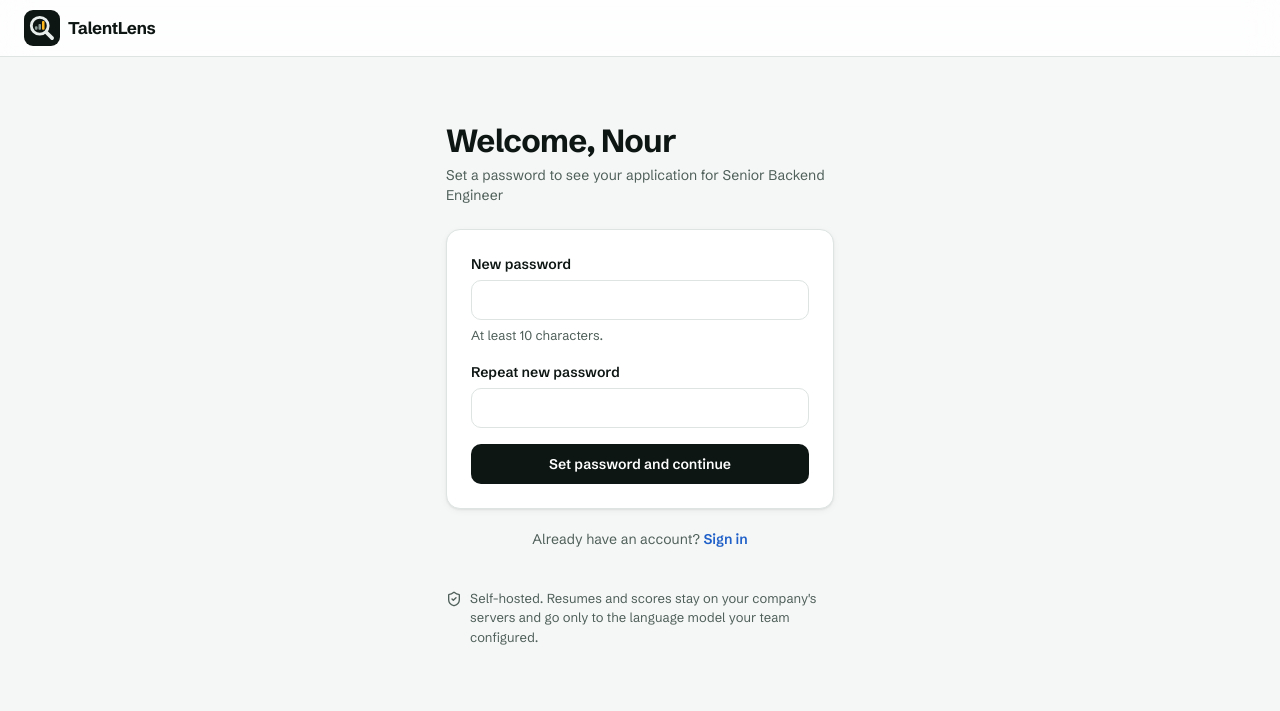
Scenario: InvitePage › shows the reason when accepting is refused
In the password field labelled "New password": [640, 300] box [471,280,809,320], type "NourPass2026"
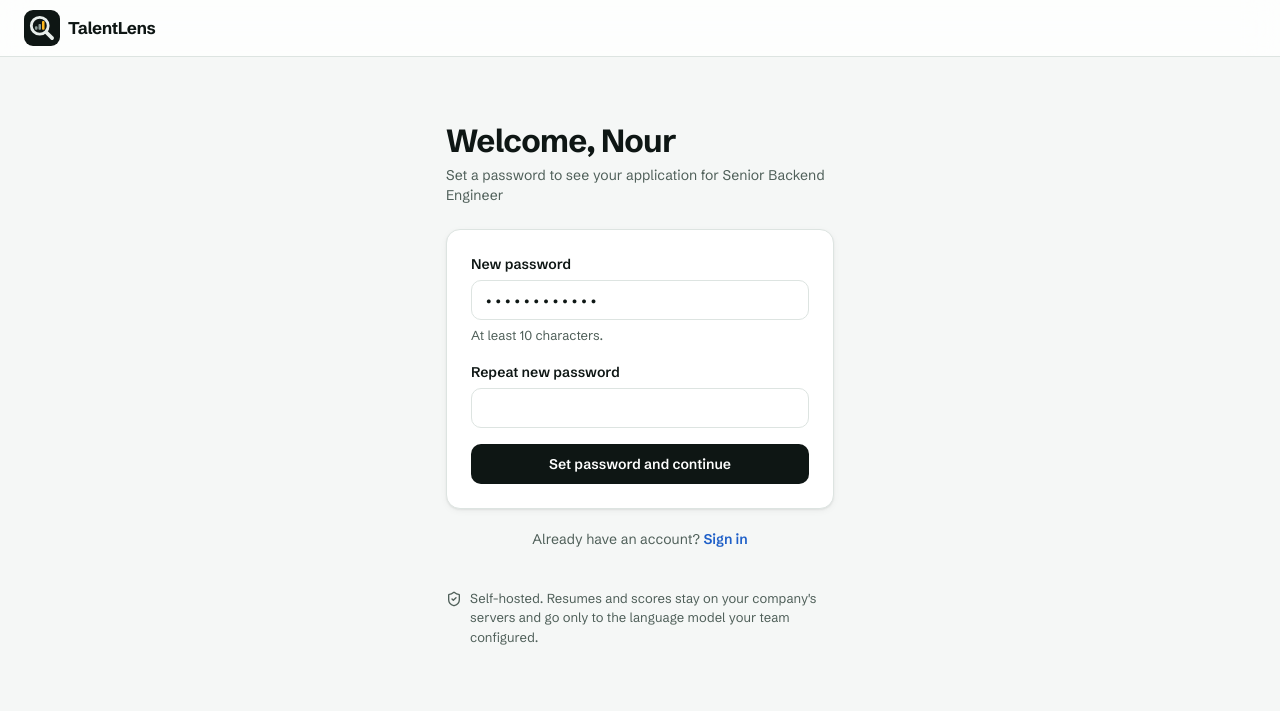
In the password field labelled "Repeat new password": [640, 408] box [471,388,809,428], type "NourPass2026"
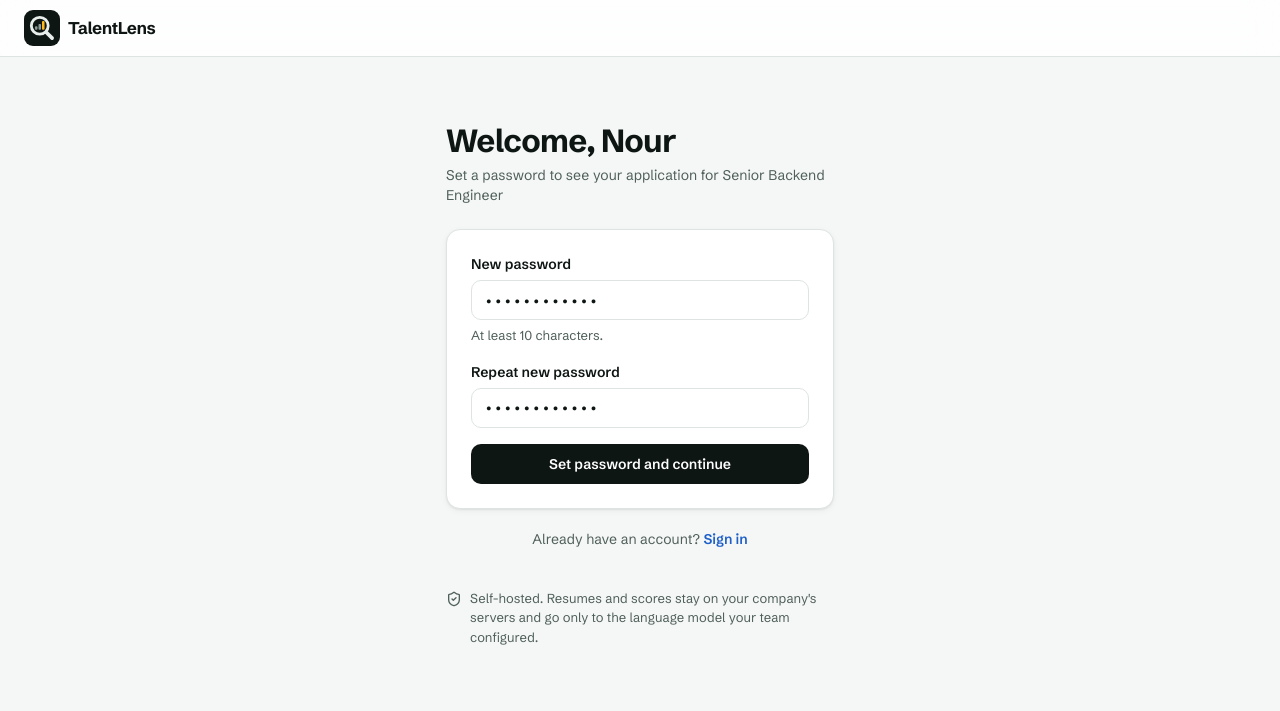
Click the button "Set password and continue": [640, 464] box [471,444,809,484]
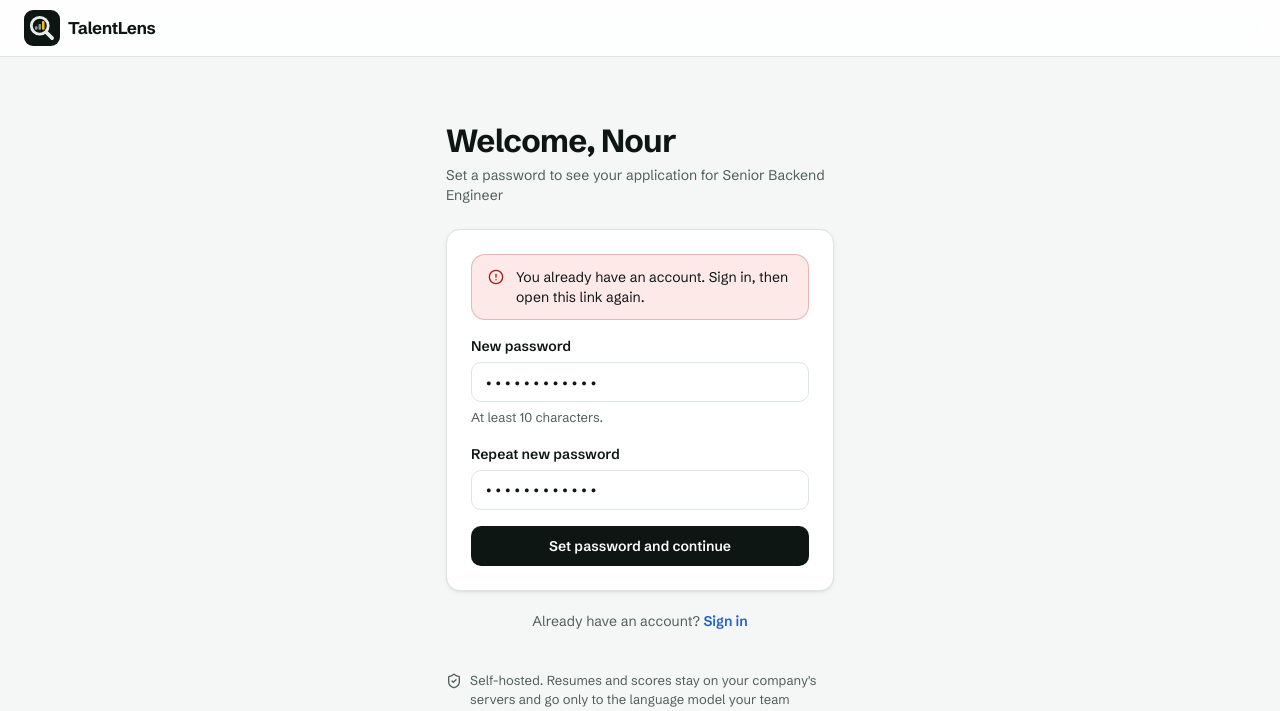
Check: the text "You already have an account. Sign in, then open this link again." is shown, box [516,267,792,307]
